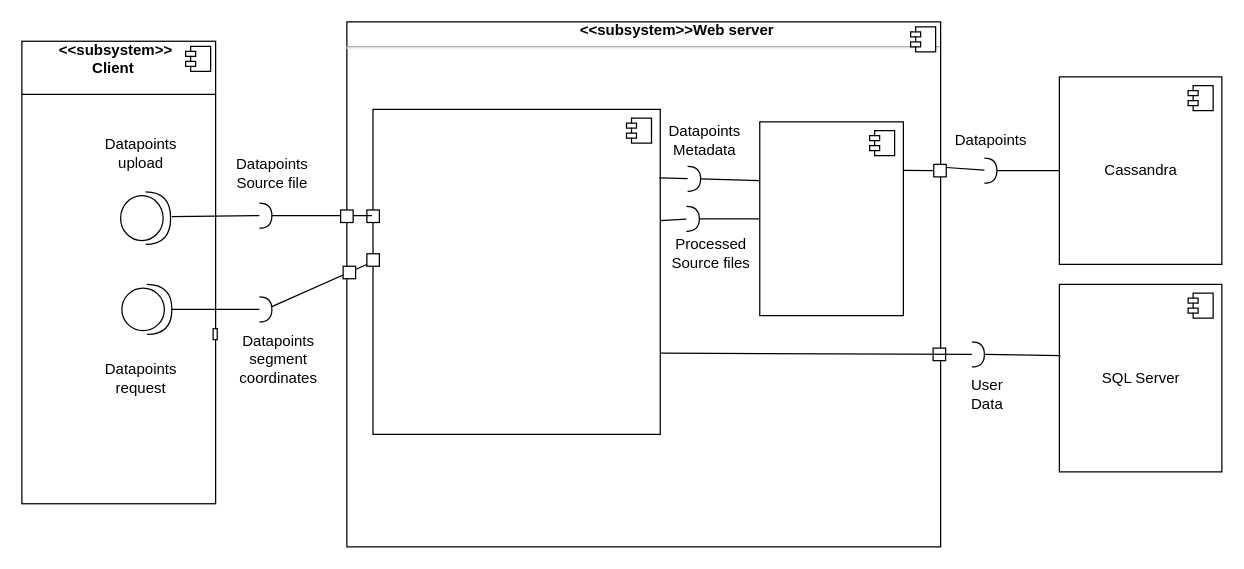
This 1244x569 diagram has some shape labels left out. Here are the shapes that lost their labels. From the top down, the centre of each, then its label:
pixel 830 218: Points storage Service
pixel 516 271: Datapoints Web Application
